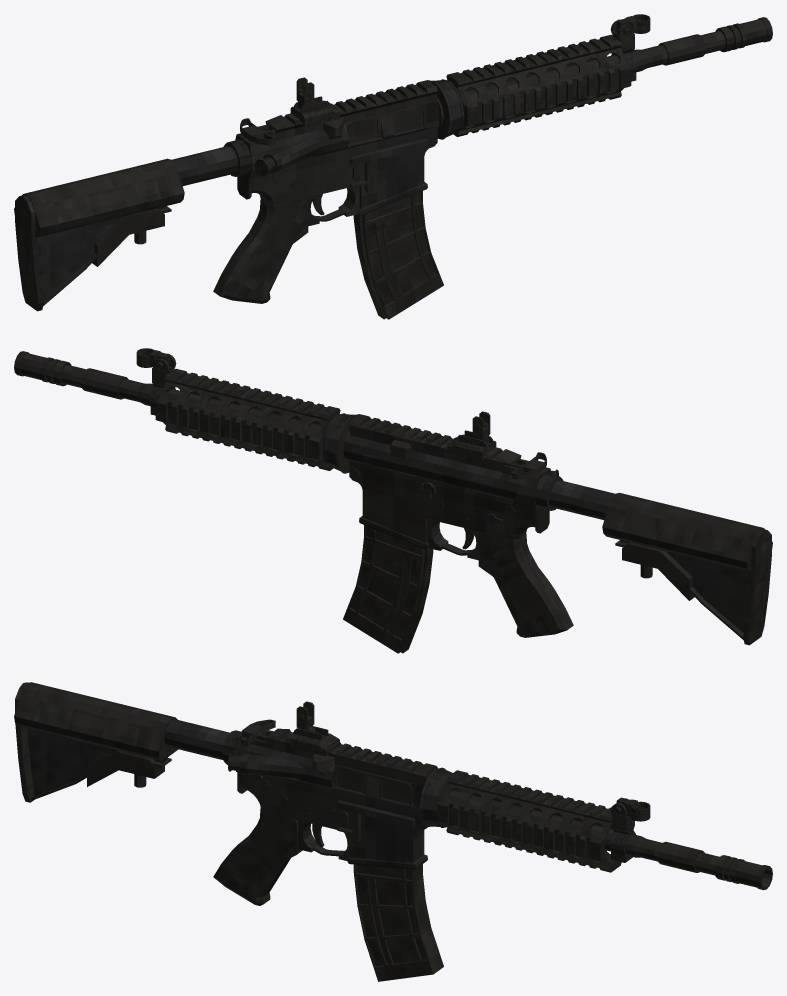
File: shop-item-1073.glb
3 views of the same model, one above another, from view 1: azimuth 30°, elevation 25°; view 2: azimuth 150°, elevation 25°; view 3: azimuth 330°, elevation 25° (orthographic).
Parts seen in each view (by area): view 1: M4_8, Mag, Rear_Sight, Bolt; view 2: M4_8, Mag, Rear_Sight, Bolt; view 3: M4_8, Mag, Rear_Sight, Bolt, Sight.
Boxes of the visible parts, x1,y1,x2,y2 form: M4_8: (14, 17, 772, 311); Mag: (353, 191, 443, 319); Rear_Sight: (290, 77, 339, 127); Bolt: (240, 118, 275, 145); M4_8: (14, 351, 772, 645); Mag: (343, 525, 433, 653); Rear_Sight: (447, 411, 496, 461); Bolt: (504, 452, 546, 479); M4_8: (14, 682, 772, 905); Mag: (353, 864, 443, 981); Rear_Sight: (290, 701, 339, 756); Bolt: (240, 719, 275, 746); Sight: (616, 797, 650, 821).
Size of the model in its own units: 7.35 by 2.41 by 0.6069.
Materials: 1 (1 with a texture image).
